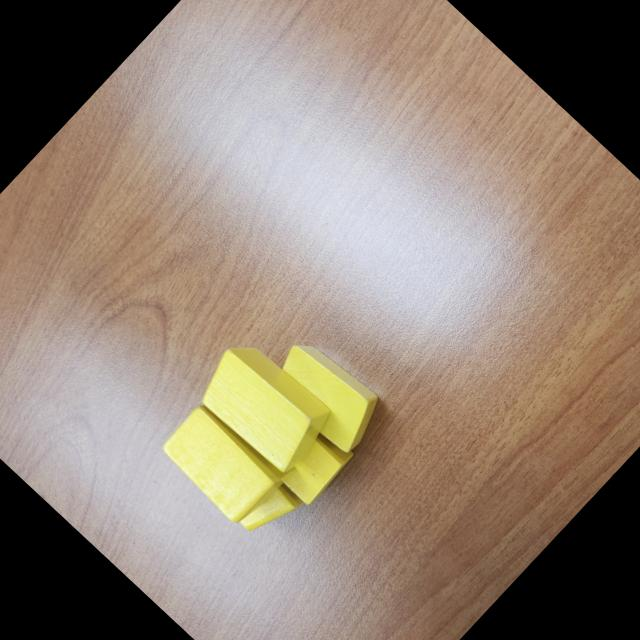yellow: (189, 332, 342, 482), (155, 390, 299, 532), (259, 328, 393, 460), (233, 386, 358, 510), (233, 477, 302, 547)
